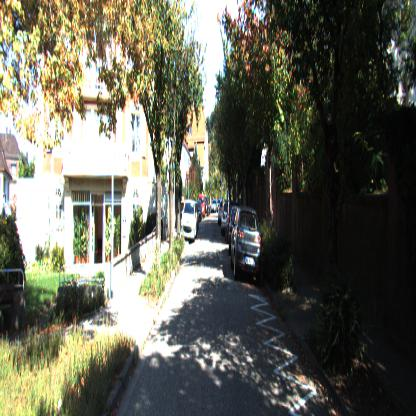car: (229, 208, 263, 281)
